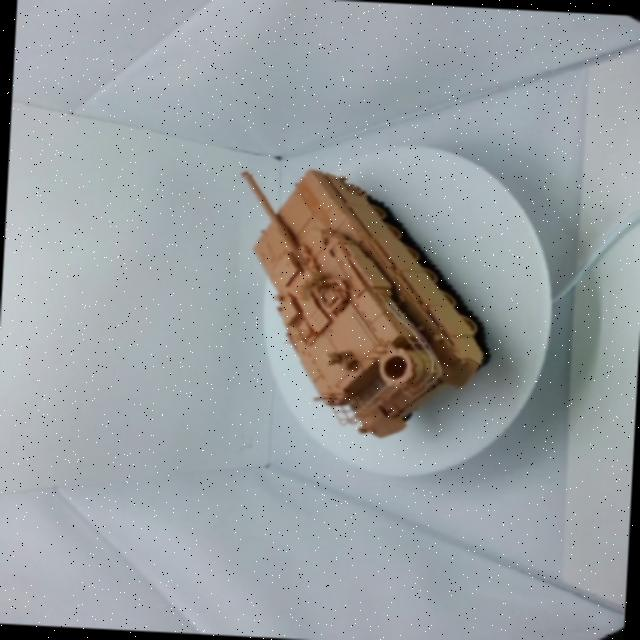korea tank: (193, 136, 514, 450)
